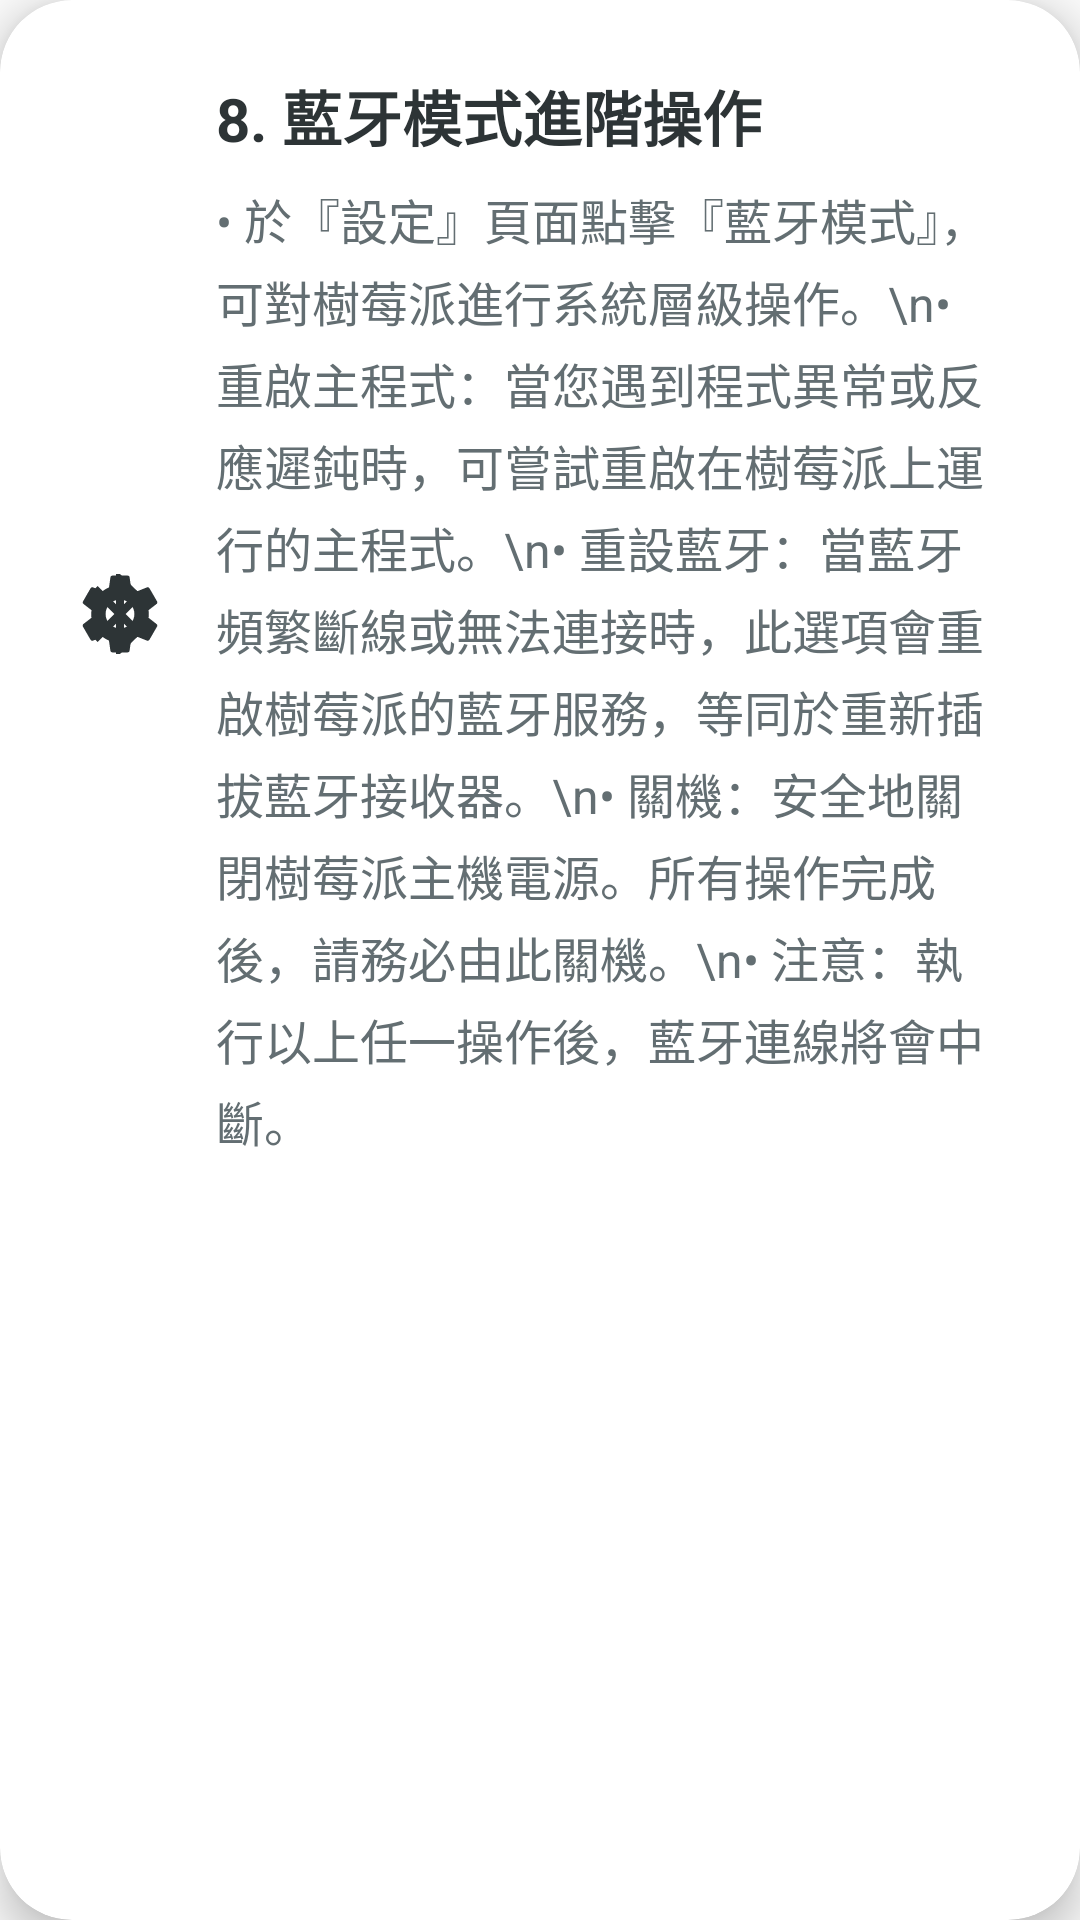

Screen size 1080 × 1920. Icon name, then its box in pixels as [x1,y1,x2,y2]:
bluetooth settings: [82,574,158,654]
